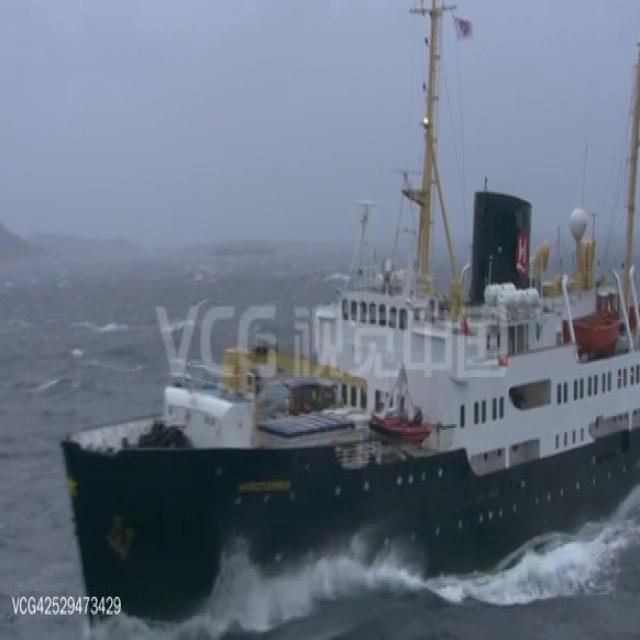passenger ship: (38, 106, 640, 595)
